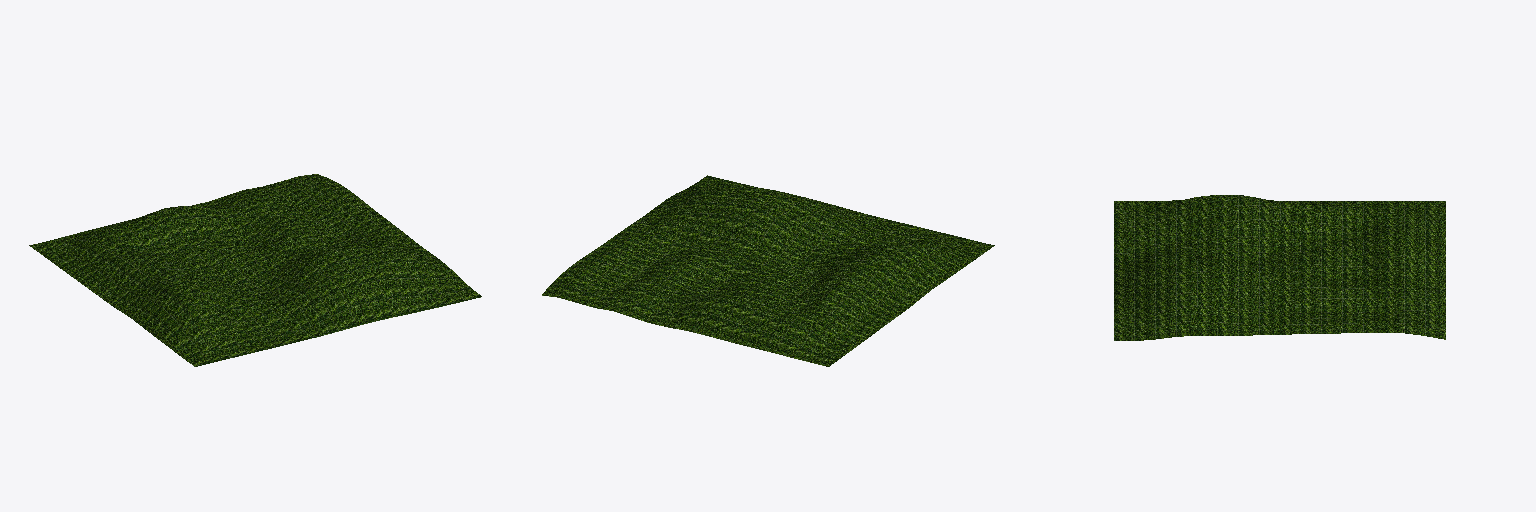
3 views of the same model, side by side, from view 1: azimuth 30°, elevation 25°; view 2: azimuth 150°, elevation 25°; view 3: azimuth 270°, elevation 25° (orthographic).
Parts seen in each view (by area): view 1: Cube; view 2: Cube; view 3: Cube.
Boxes of the visible parts, <box> form: Cube: <box>29,174,481,366</box>; Cube: <box>542,175,994,366</box>; Cube: <box>1114,195,1445,340</box>.
Size of the model in its own units: 15.85 by 1.61 by 15.85.
1 materials, 1 textured.